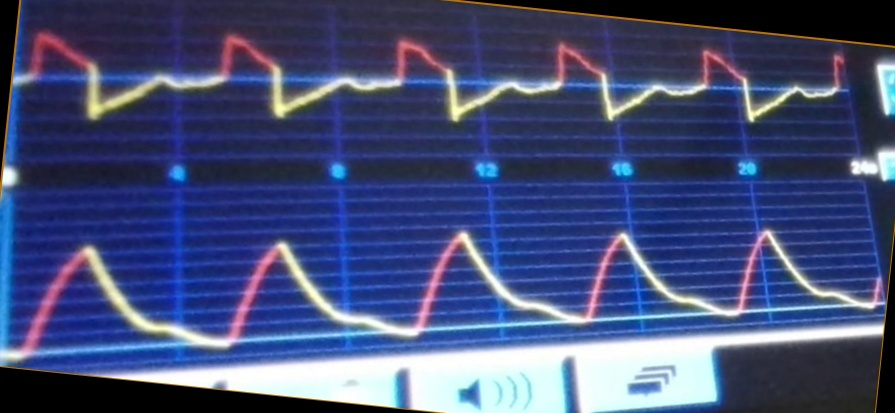Ineffective_effort Flow: (19, 28, 843, 132)
Ineffective_effort Volume: (11, 225, 880, 351)
